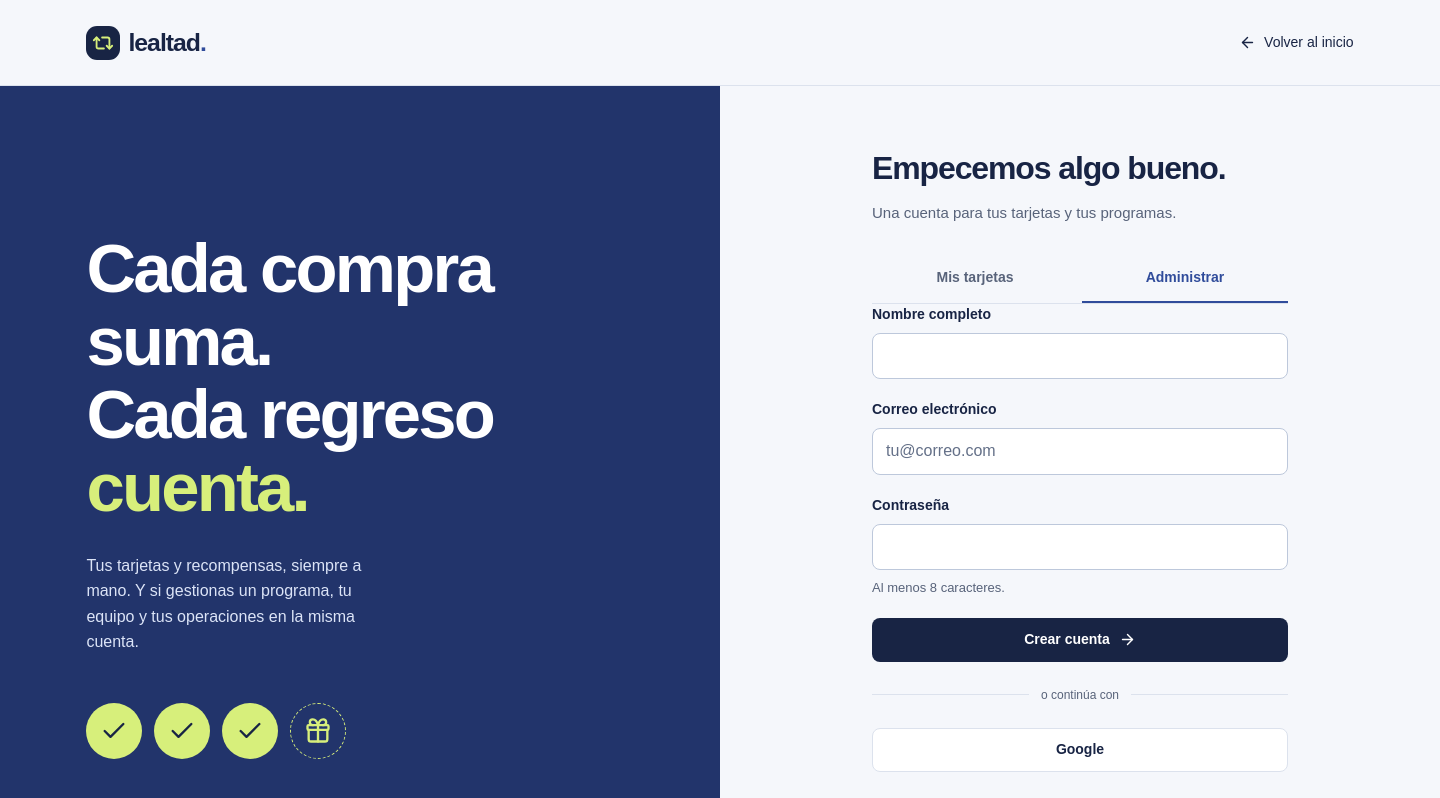
Test case: ACCESS-001 destino y errores de acceso › conserva la elección de tarjetas también al confirmar el registro por correo
Click the button "Mis tarjetas" at (975, 279), box [872,255,1078,303]
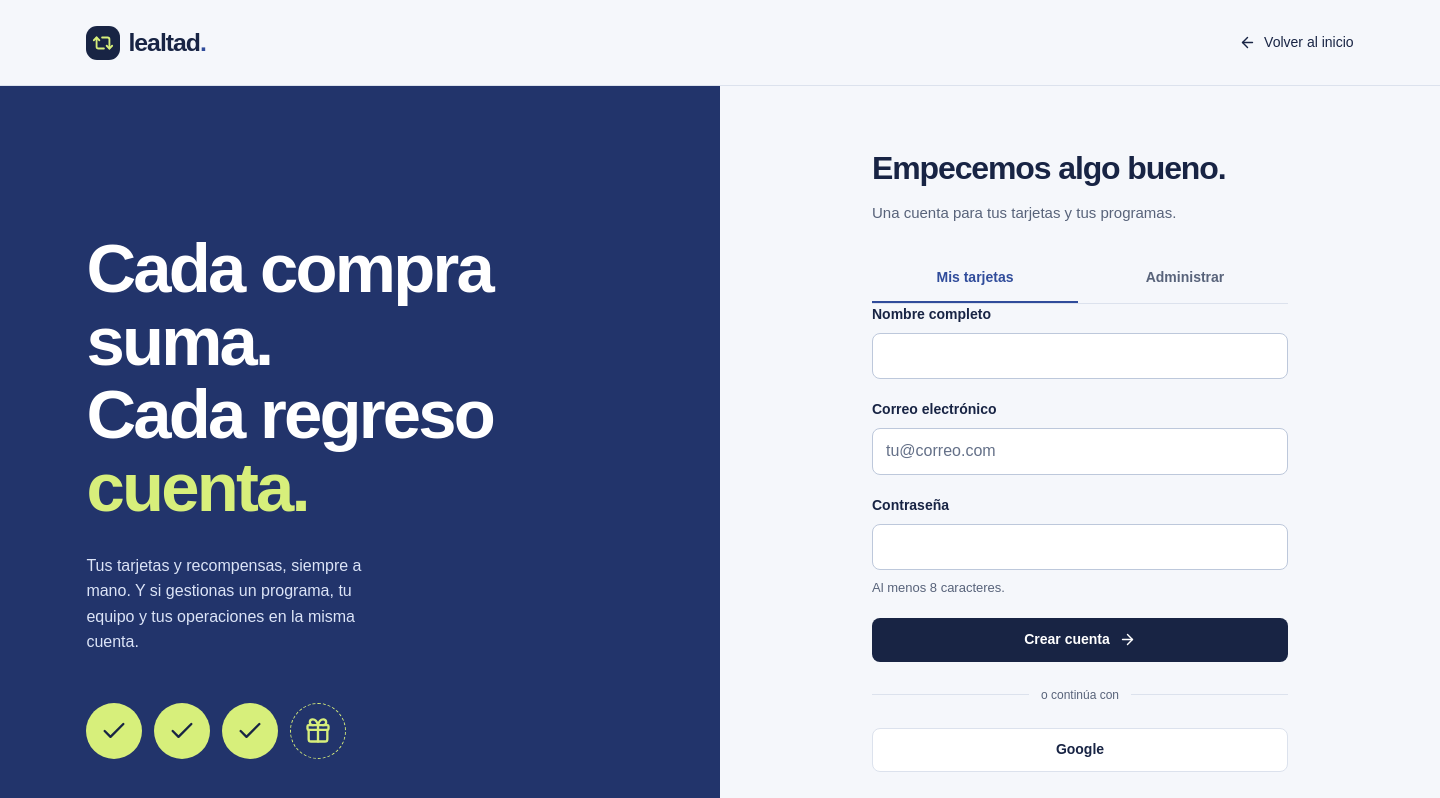
Type "Ana" into the field labelled "Nombre completo" at (1080, 356), box [872,333,1288,379]
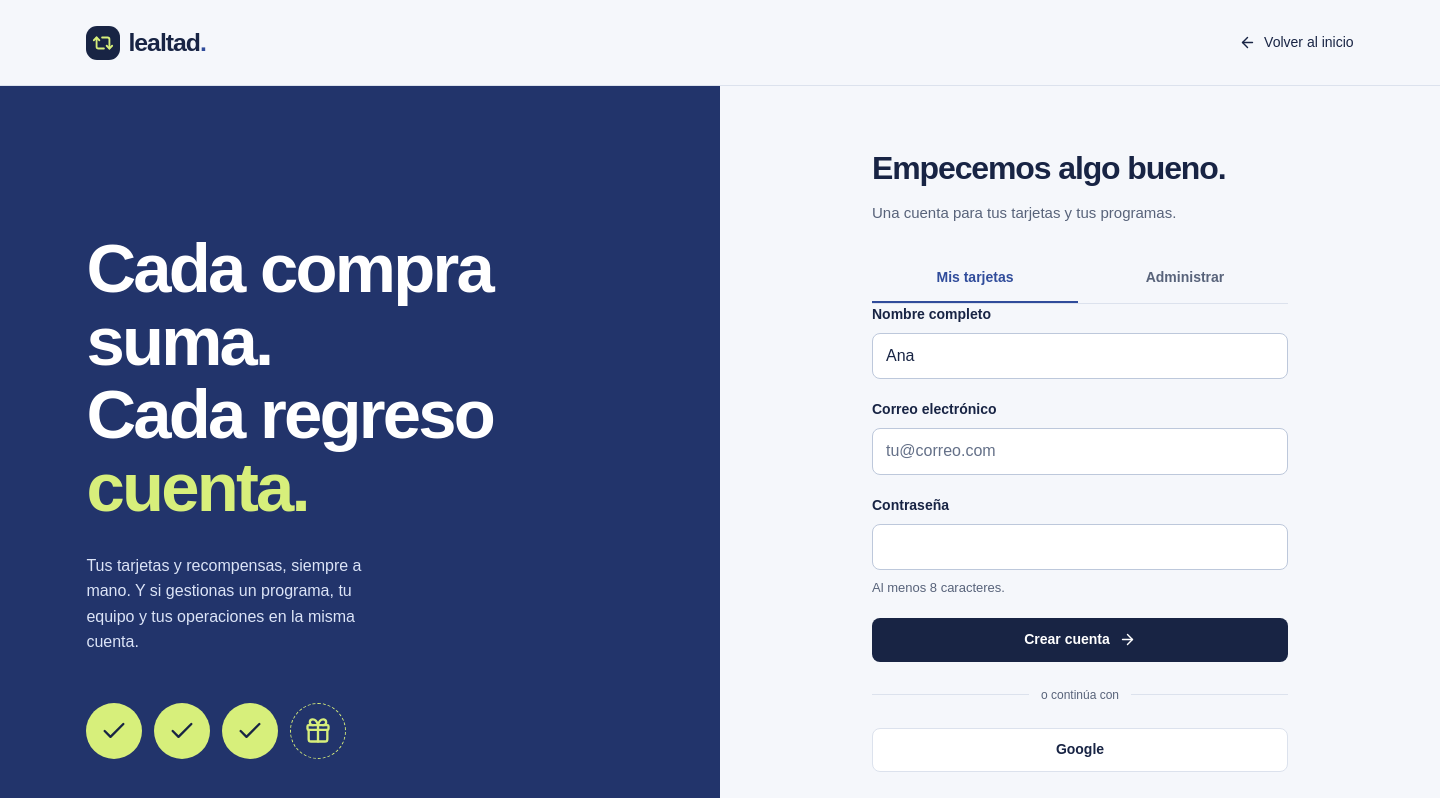
Type "ana@example.test" into the field labelled "Correo electrónico" at (1080, 452), box [872,428,1288,475]
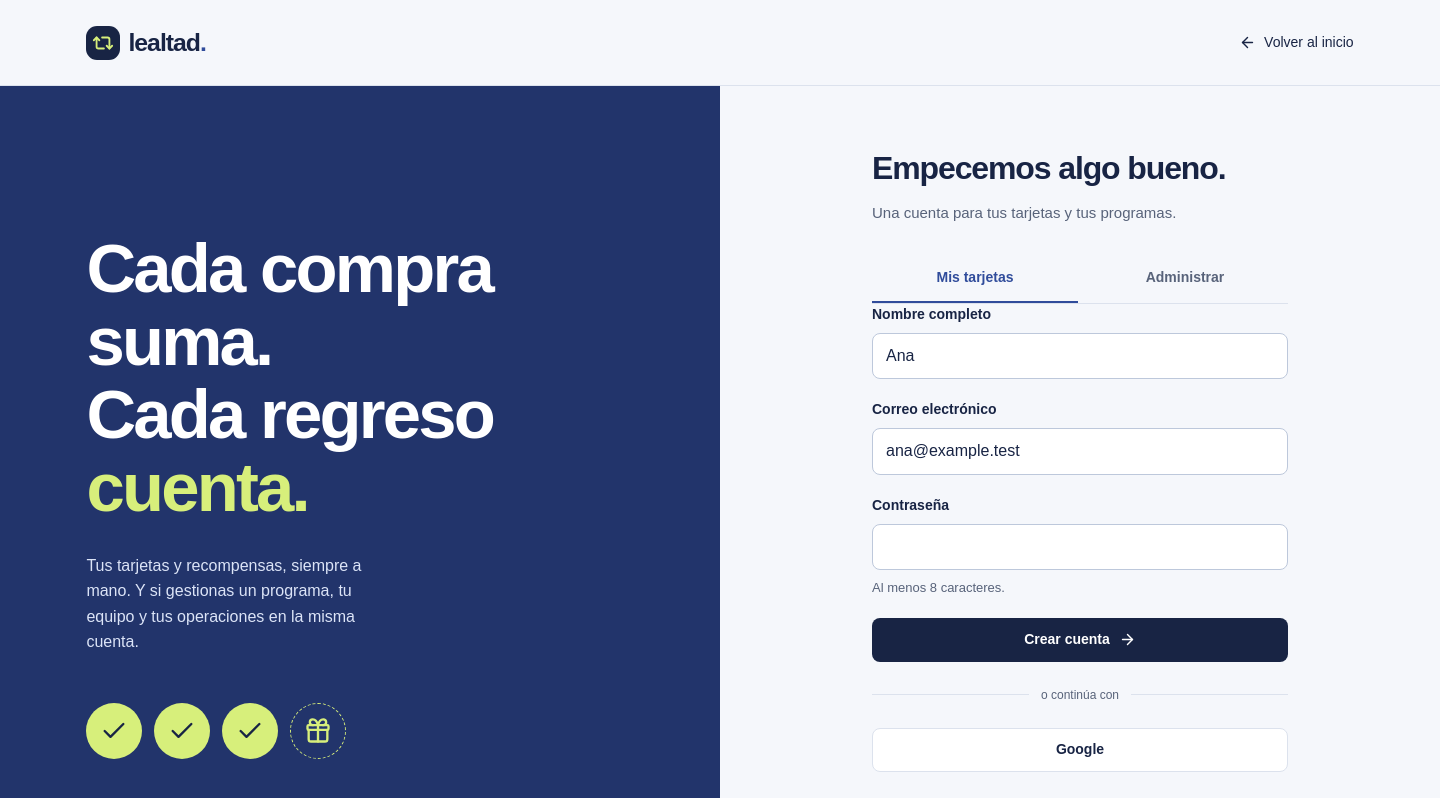
Type "test-password" into the password field labelled "Contraseña" at (1080, 547), box [872,524,1288,570]
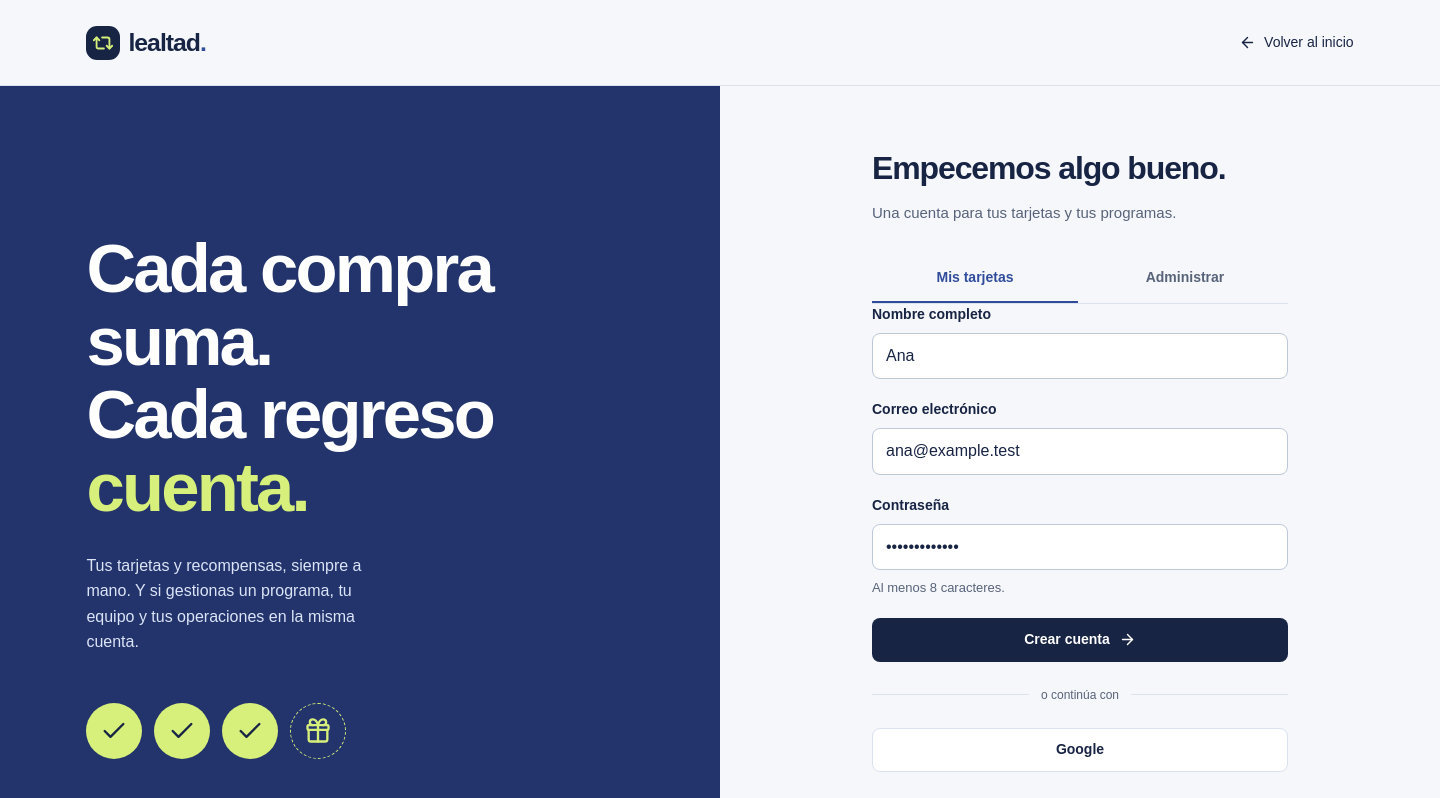
Click the button "Crear cuenta" at (1080, 640), box [872,618,1288,662]
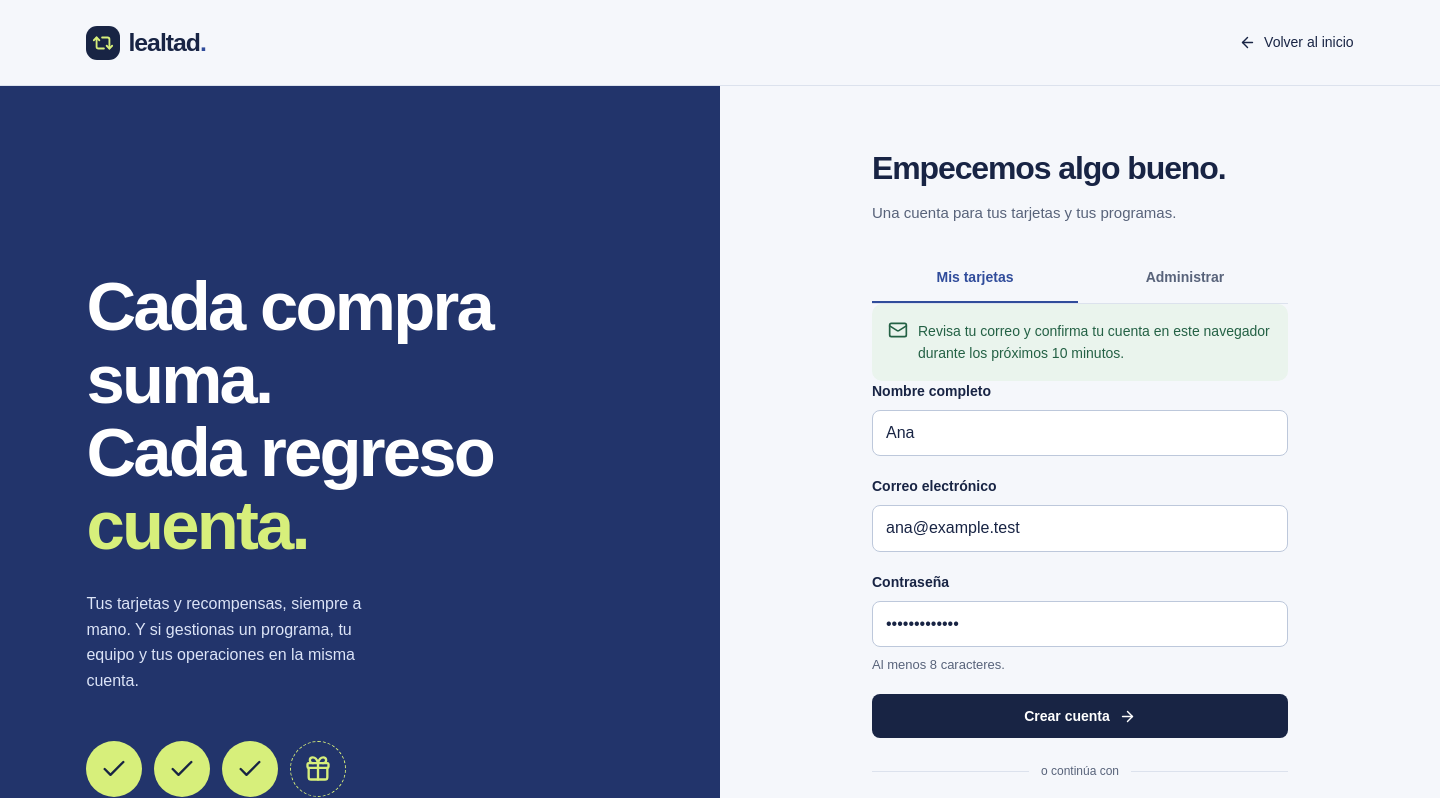
expect the message shows "Revisa tu correo": met, box [918,323,1270,361]
